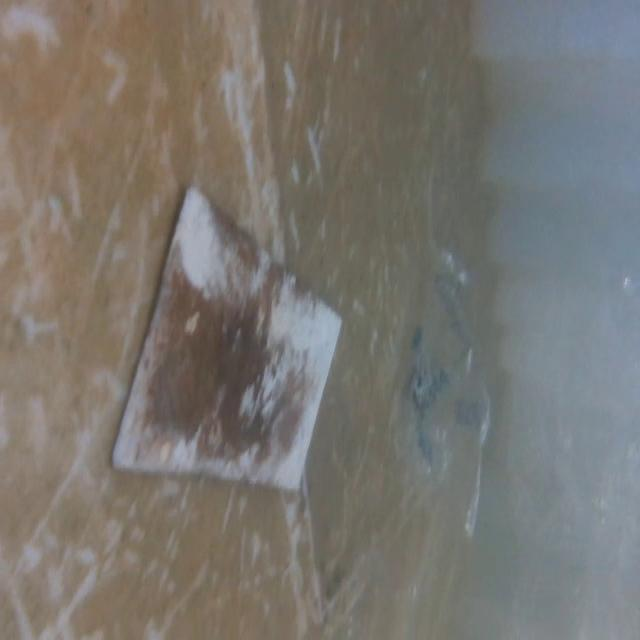metal: (108, 176, 342, 517)
plastic bags: (394, 242, 495, 532)
